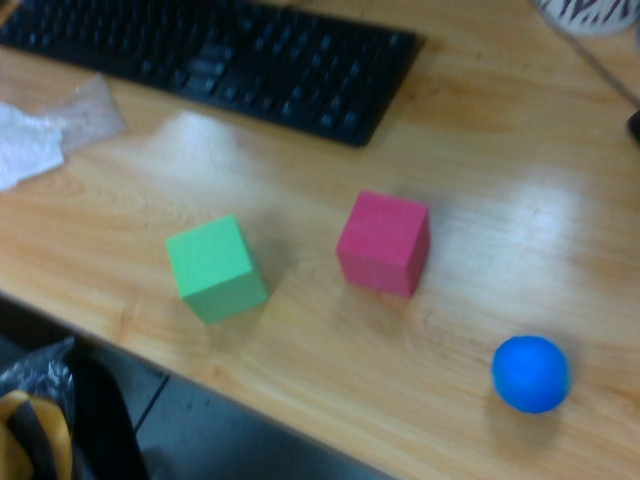blueball: (491, 329, 567, 413)
green: (165, 212, 270, 317)
red: (342, 188, 431, 293)
